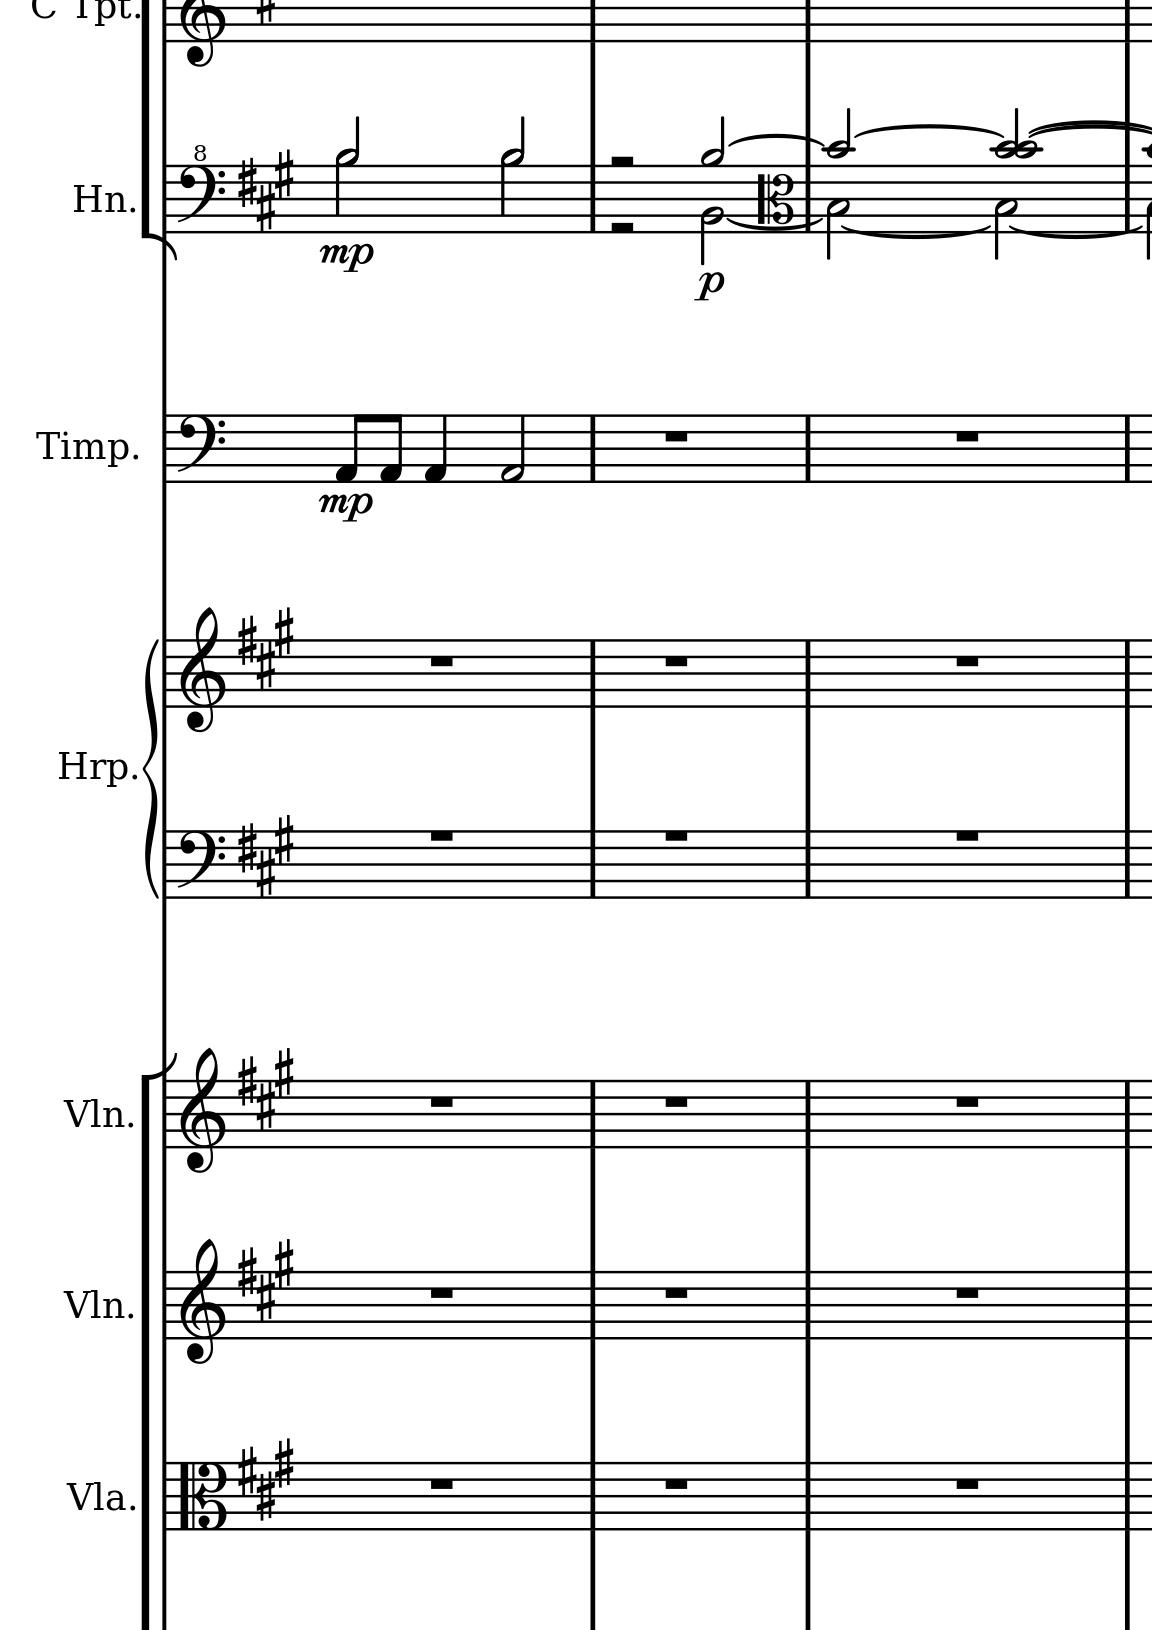2_1: (497, 414, 529, 484)
2_3: (995, 162, 1020, 260), (825, 164, 850, 262)
4_1: (421, 412, 449, 485)
8_1: (333, 412, 364, 484), (378, 414, 404, 485)
A_S: (233, 1432, 299, 1524), (232, 1044, 297, 1135), (234, 811, 298, 902), (234, 146, 298, 236), (233, 604, 297, 693), (234, 1236, 295, 1326)
Brace: (141, 631, 161, 902)
Cclef: (177, 1461, 229, 1532), (754, 164, 795, 238)
Fclef: (176, 827, 228, 901), (176, 412, 227, 485)
Gclef: (177, 604, 227, 735), (177, 1046, 226, 1175), (177, 1237, 226, 1367)
High_Fclef: (176, 145, 227, 234)
Hn: (70, 176, 127, 221)
Hrp: (56, 746, 127, 793)
Rests1: (425, 825, 458, 845), (660, 825, 692, 845), (425, 1092, 458, 1112), (424, 1474, 458, 1493), (951, 825, 982, 845), (951, 1474, 982, 1494), (425, 1284, 458, 1302), (660, 1474, 692, 1493), (953, 1092, 982, 1112), (660, 652, 691, 670), (660, 1093, 691, 1112), (660, 1284, 691, 1302), (951, 1284, 982, 1302), (426, 652, 456, 670), (953, 652, 982, 670), (660, 427, 691, 445), (951, 427, 982, 445)
Rests2: (606, 151, 638, 173), (606, 217, 638, 238)
Single_barline: (1116, 1462, 1140, 1532), (1116, 164, 1140, 233), (581, 164, 605, 232), (1116, 1272, 1140, 1338), (581, 830, 603, 898), (1117, 830, 1140, 898), (797, 1462, 819, 1530), (1117, 641, 1140, 708), (1117, 1080, 1140, 1146), (797, 1272, 819, 1338), (1117, 414, 1138, 484), (582, 1462, 603, 1532), (797, 830, 818, 898), (582, 641, 603, 708), (798, 167, 819, 233), (582, 1080, 603, 1146), (798, 1080, 819, 1146), (582, 1272, 603, 1338), (798, 641, 818, 708), (156, 415, 175, 484), (583, 416, 602, 484), (157, 1271, 175, 1341), (157, 1462, 175, 1532), (158, 1080, 176, 1148), (799, 416, 817, 482), (158, 164, 175, 232), (160, 639, 175, 709), (160, 831, 175, 898)
Timp: (29, 426, 128, 472)
Vla: (65, 1475, 128, 1522)
Vln: (64, 1282, 127, 1325), (64, 1092, 127, 1133)
mp: (315, 489, 377, 530), (318, 241, 377, 278)
p: (692, 270, 728, 307)
